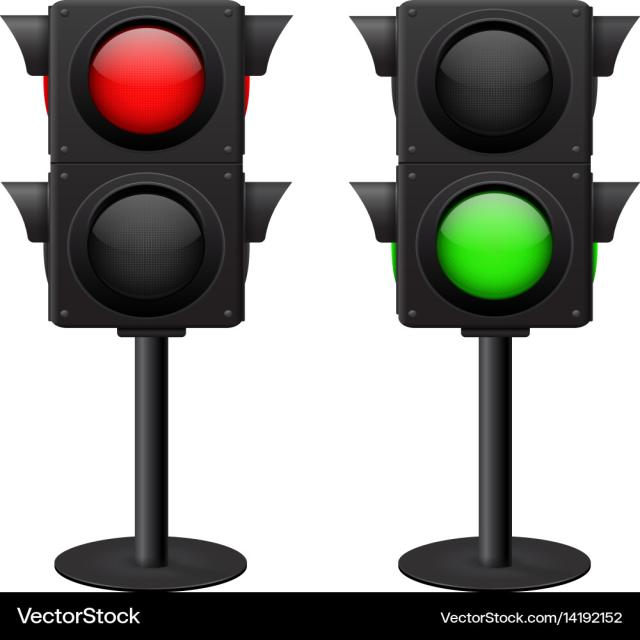green: (432, 165, 571, 330)
red: (72, 24, 202, 152)
